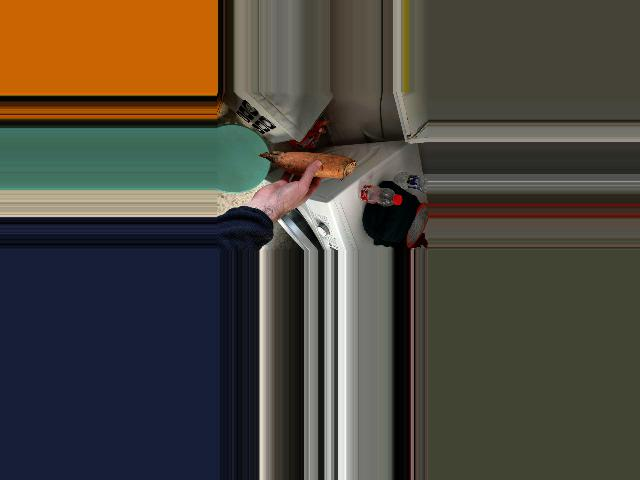sweet_potato: (260, 152, 349, 177)
